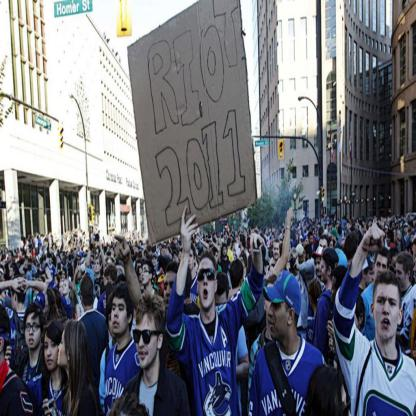face: (375, 286, 400, 339), (138, 314, 158, 367), (270, 294, 287, 341), (200, 261, 215, 308), (267, 284, 281, 324), (26, 315, 42, 347), (114, 298, 128, 334), (46, 333, 57, 371), (164, 273, 176, 306), (377, 254, 389, 283), (59, 329, 67, 365), (332, 278, 341, 308), (109, 311, 118, 339), (398, 261, 406, 289), (320, 243, 329, 264), (188, 249, 196, 271), (322, 260, 329, 283), (106, 278, 114, 296), (143, 264, 150, 284), (103, 268, 110, 286), (317, 256, 322, 277), (12, 288, 17, 309), (367, 267, 373, 284), (274, 244, 280, 258), (63, 282, 69, 296), (60, 284, 65, 295), (293, 256, 297, 269), (223, 246, 228, 256), (305, 249, 309, 261), (310, 235, 314, 247), (96, 260, 100, 272), (394, 252, 398, 264), (305, 238, 309, 250), (138, 269, 142, 279), (153, 258, 157, 268), (11, 268, 15, 278), (330, 241, 334, 250), (1, 267, 4, 279), (240, 235, 243, 246), (8, 253, 12, 261), (216, 253, 219, 263), (387, 235, 390, 245), (63, 271, 66, 280), (399, 232, 402, 240), (56, 278, 59, 286), (386, 227, 389, 235), (411, 235, 414, 243), (405, 226, 408, 233), (392, 223, 395, 229), (79, 257, 82, 263), (234, 243, 236, 250), (231, 241, 233, 246)
